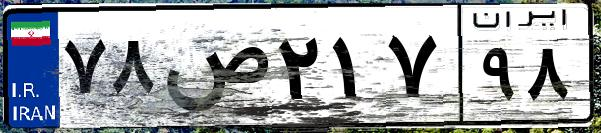1: (330, 28, 385, 110)
2: (270, 28, 330, 110)
7: (385, 28, 445, 110), (57, 26, 110, 100)
8: (525, 38, 570, 115), (110, 28, 158, 98)
9: (475, 38, 525, 113)
ص: (158, 20, 270, 120)
